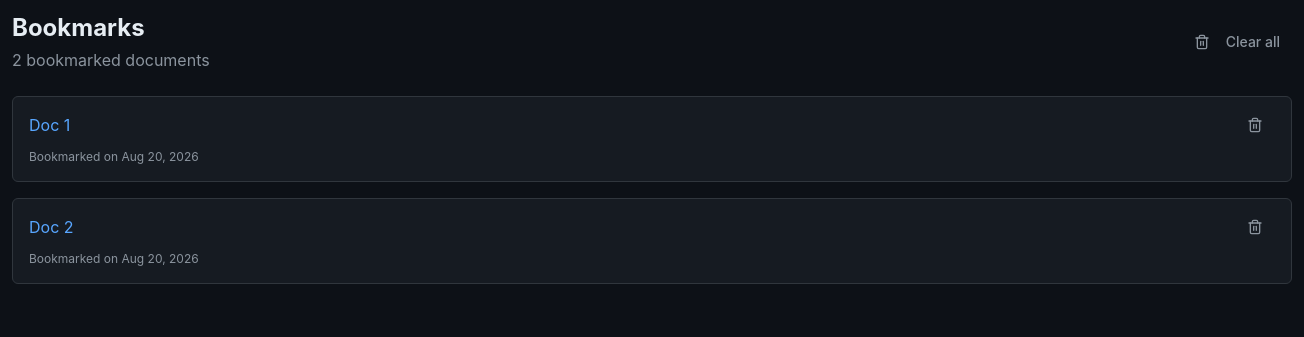
Bookmarks Page › clears all bookmarks when clicking Clear all
Click the button "Clear all" at (1237, 42), box [1182,28,1292,56]
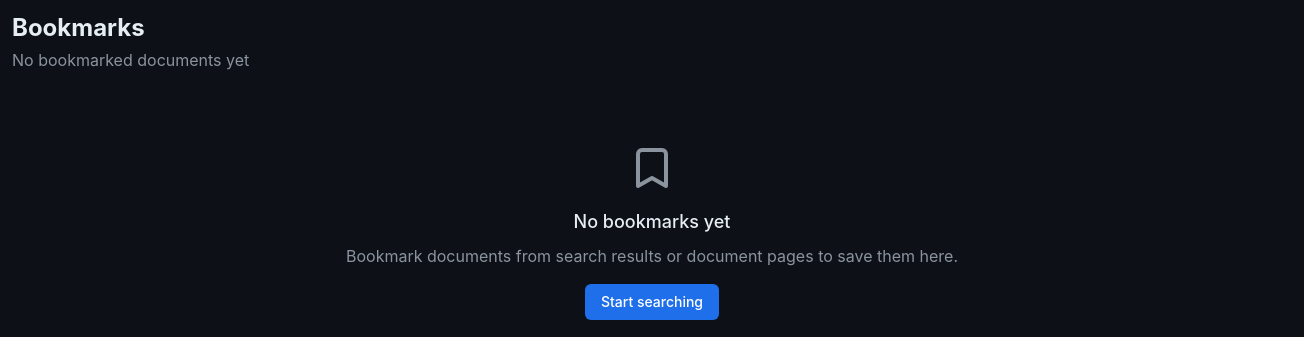
Expected: the heading "No bookmarks yet" is shown, [574,211,730,232]
Expected: the link "Doc 1" is gone
Expected: the link "Doc 2" is gone
